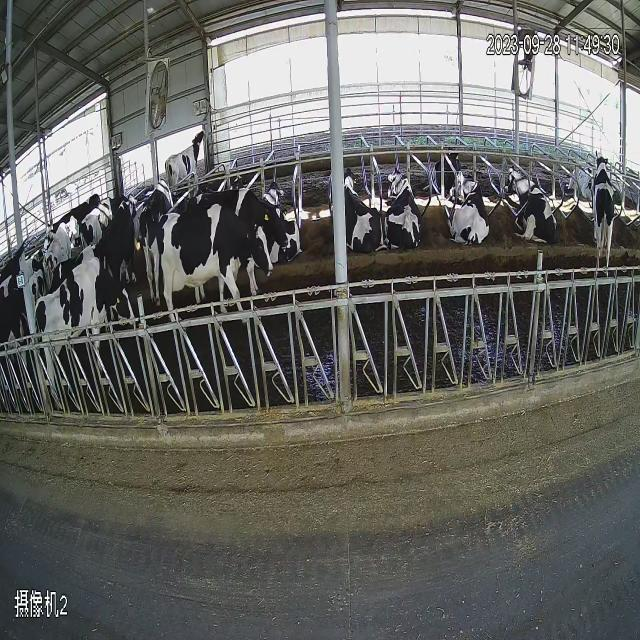lying down: (501, 124, 556, 287), (386, 146, 434, 298), (334, 153, 384, 281), (446, 137, 490, 280)
standing: (34, 240, 142, 400), (148, 198, 274, 296), (590, 134, 633, 284), (163, 124, 214, 194)
